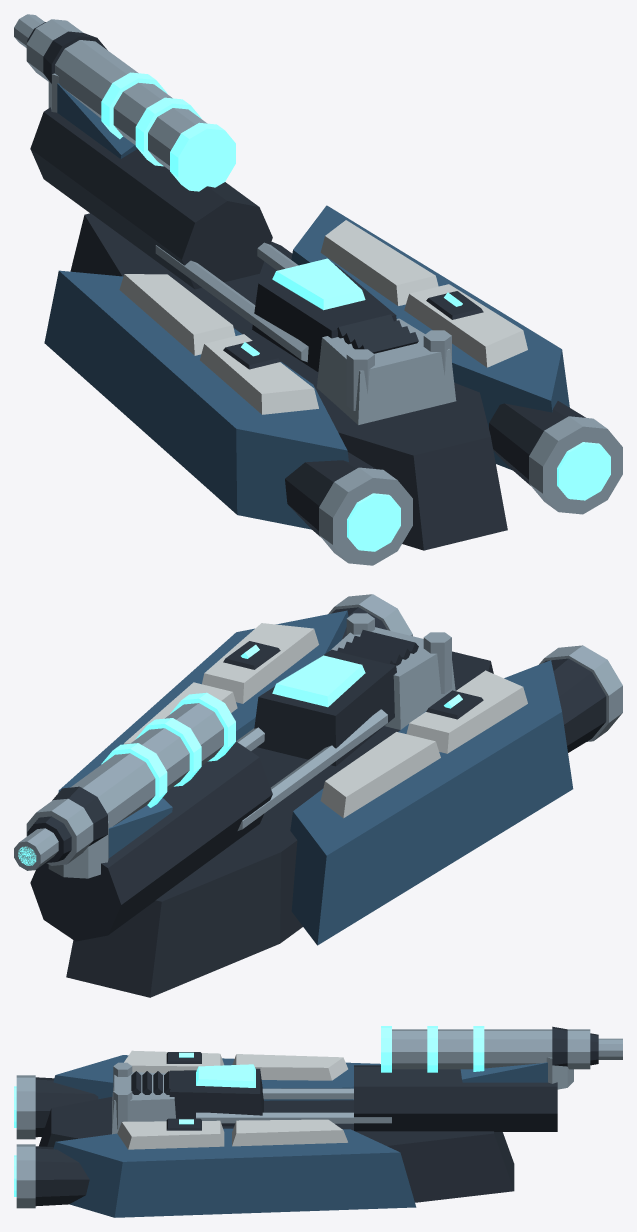
The model's file is c4_sniper.glb.
3 views of the same model, one above another, from view 1: azimuth 30°, elevation 25°; view 2: azimuth 150°, elevation 25°; view 3: azimuth 270°, elevation 25° (orthographic). The views are drawn at different scales.
Parts seen in each view (by area): view 1: c4_sniper / Chassis, c4_sniper / Armor, c4_sniper / Titanium, c4_sniper / Identification, c4_sniper / Energy; view 2: c4_sniper / Chassis, c4_sniper / Armor, c4_sniper / Titanium, c4_sniper / Identification, c4_sniper / Energy; view 3: c4_sniper / Chassis, c4_sniper / Armor, c4_sniper / Titanium, c4_sniper / Identification, c4_sniper / Energy.
Part boxes in pixels (x1=…): c4_sniper / Chassis: x1=27, y1=22, x2=585, y2=550; c4_sniper / Armor: x1=44, y1=83, x2=569, y2=529; c4_sniper / Titanium: x1=14, y1=14, x2=622, y2=565; c4_sniper / Identification: x1=119, y1=220, x2=527, y2=414; c4_sniper / Energy: x1=101, y1=72, x2=610, y2=551; c4_sniper / Chassis: x1=27, y1=607, x2=606, y2=997; c4_sniper / Armor: x1=58, y1=610, x2=573, y2=945; c4_sniper / Titanium: x1=14, y1=594, x2=622, y2=878; c4_sniper / Identification: x1=124, y1=623, x2=527, y2=818; c4_sniper / Energy: x1=18, y1=644, x2=462, y2=865; c4_sniper / Chassis: x1=35, y1=1026, x2=598, y2=1206; c4_sniper / Armor: x1=53, y1=1055, x2=547, y2=1217; c4_sniper / Titanium: x1=16, y1=1029, x2=622, y2=1208; c4_sniper / Identification: x1=117, y1=1050, x2=347, y2=1149; c4_sniper / Energy: x1=14, y1=1026, x2=484, y2=1196.
Bounding box in the file's own units: 0.96 × 0.607 × 2.24.
